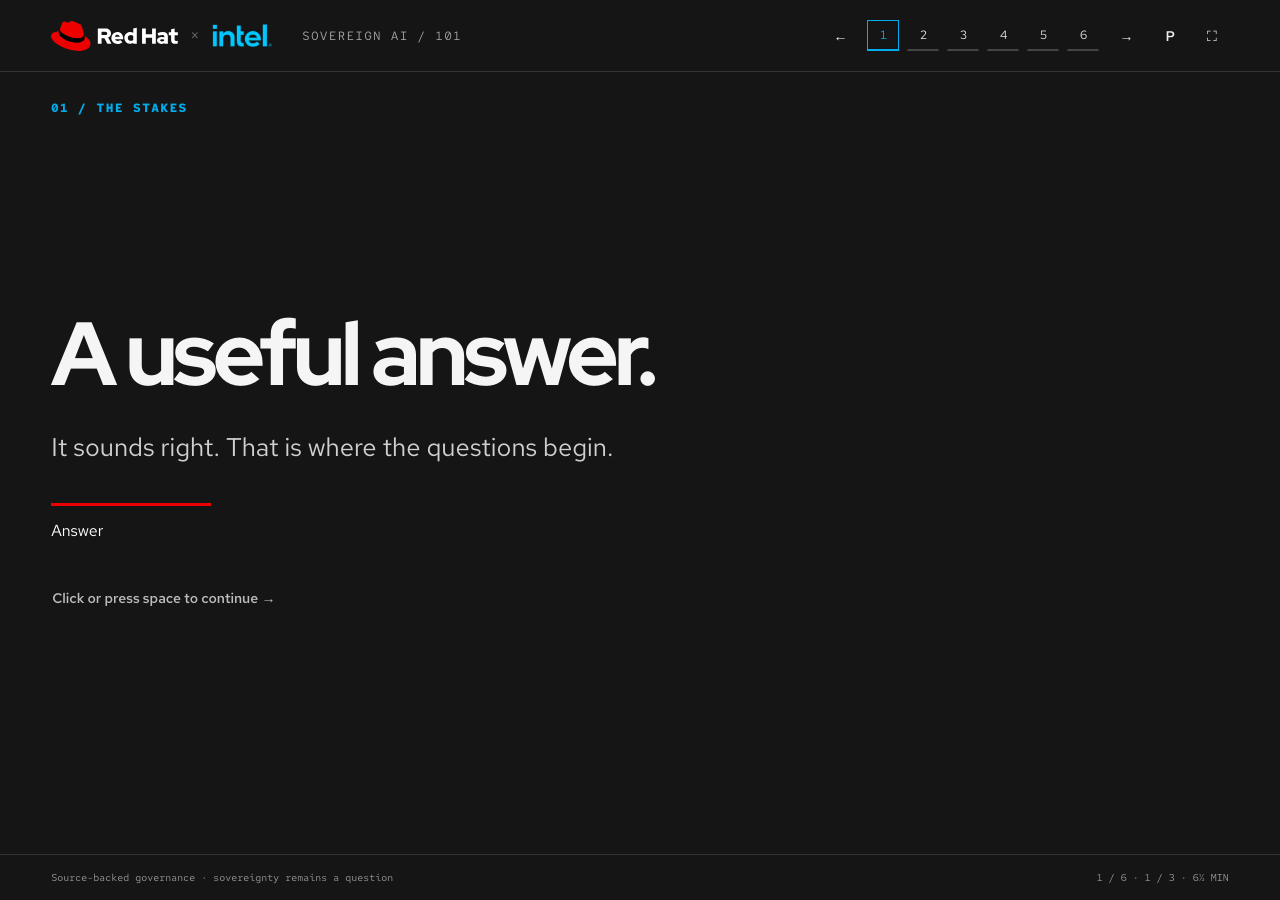
Test: Sovereign presentation › does not hijack space on focused buttons or advance a clicked control
This screenshot has width=1280, height=900.
Press Space in the button named "Toggle presenter prompt", box [1154,18,1187,54]
expect the text "A useful answer." is shown: met, box [51,294,654,412]
Click the button named "Toggle presenter prompt": (1170,36) [1154,18,1187,54]
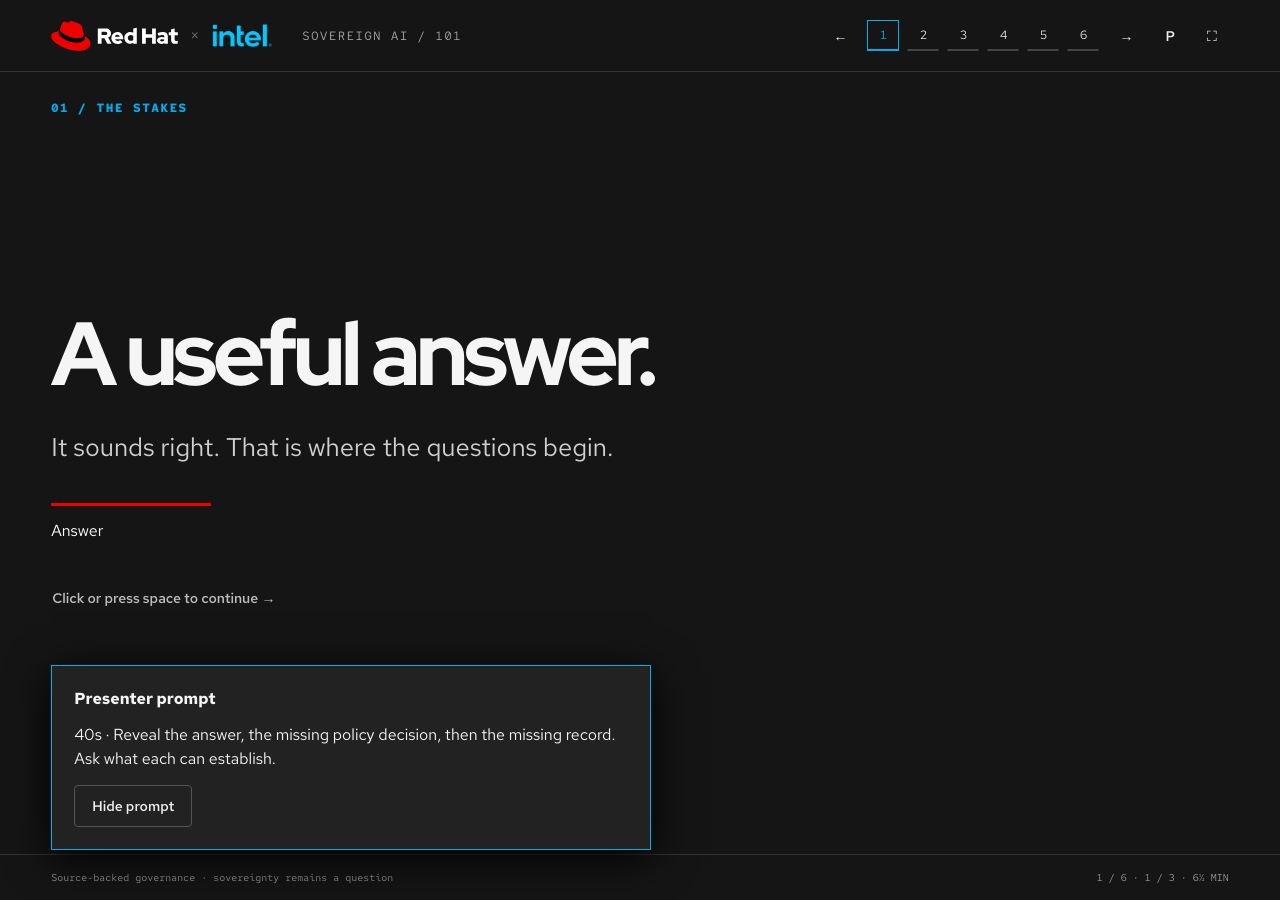
expect the text "A useful answer." is shown: met, box [51,294,654,412]
expect the text "Presenter prompt" is shown: met, box [74,688,216,709]
